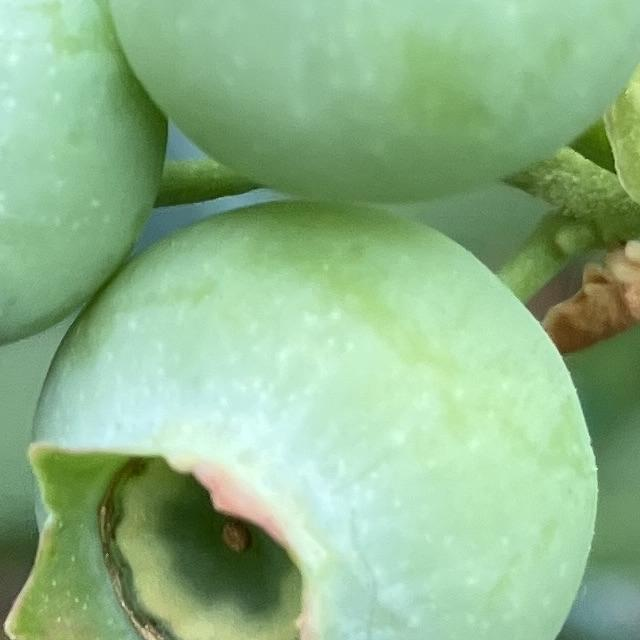Blueberries: (3, 196, 601, 640), (74, 0, 640, 205), (0, 0, 168, 357)
